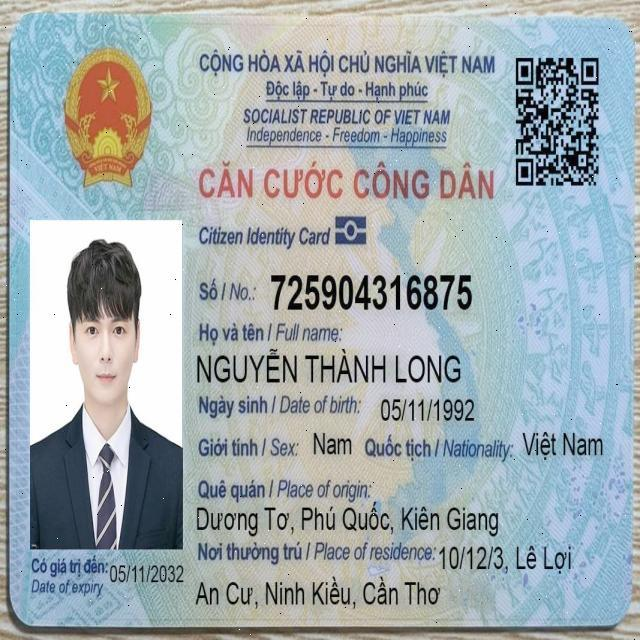current_place: (191, 573, 445, 614), (437, 538, 575, 579)
dob: (376, 390, 479, 427)
expire_date: (106, 556, 188, 590)
gender: (309, 426, 355, 462)
id: (267, 266, 477, 316)
name: (192, 342, 466, 391)
nationality: (519, 425, 607, 466)
origin_place: (192, 500, 502, 542)
qr: (512, 50, 602, 192)
